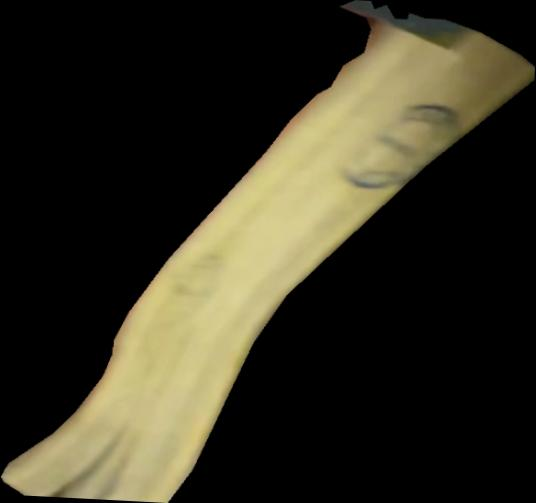backward: (1, 1, 536, 503)
